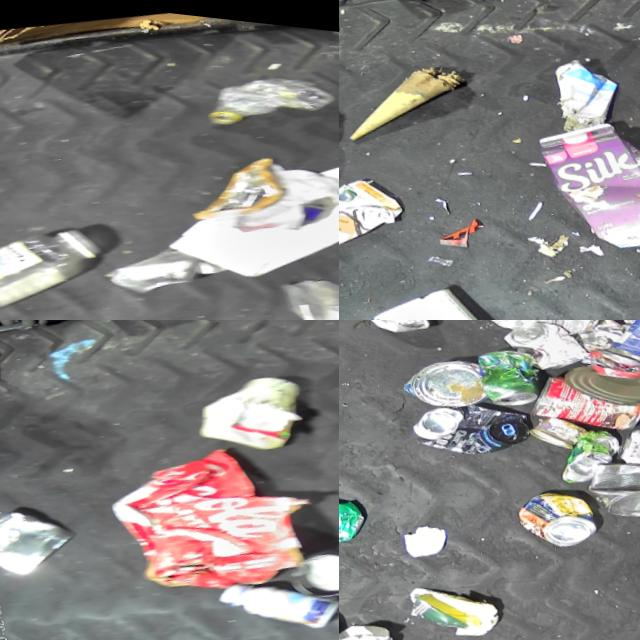can: (177, 124, 339, 247), (523, 344, 640, 438), (407, 378, 532, 463), (0, 495, 81, 587), (513, 471, 601, 548), (561, 333, 640, 413), (397, 342, 486, 412), (581, 431, 640, 518), (474, 334, 544, 406), (553, 413, 626, 479), (499, 320, 590, 372), (284, 530, 339, 598), (526, 398, 589, 448), (339, 483, 368, 554), (613, 399, 640, 474), (352, 320, 430, 337)
non_white_jug: (534, 95, 640, 257), (339, 163, 411, 268)
plastic_bottle: (0, 204, 113, 320), (198, 48, 339, 131)
